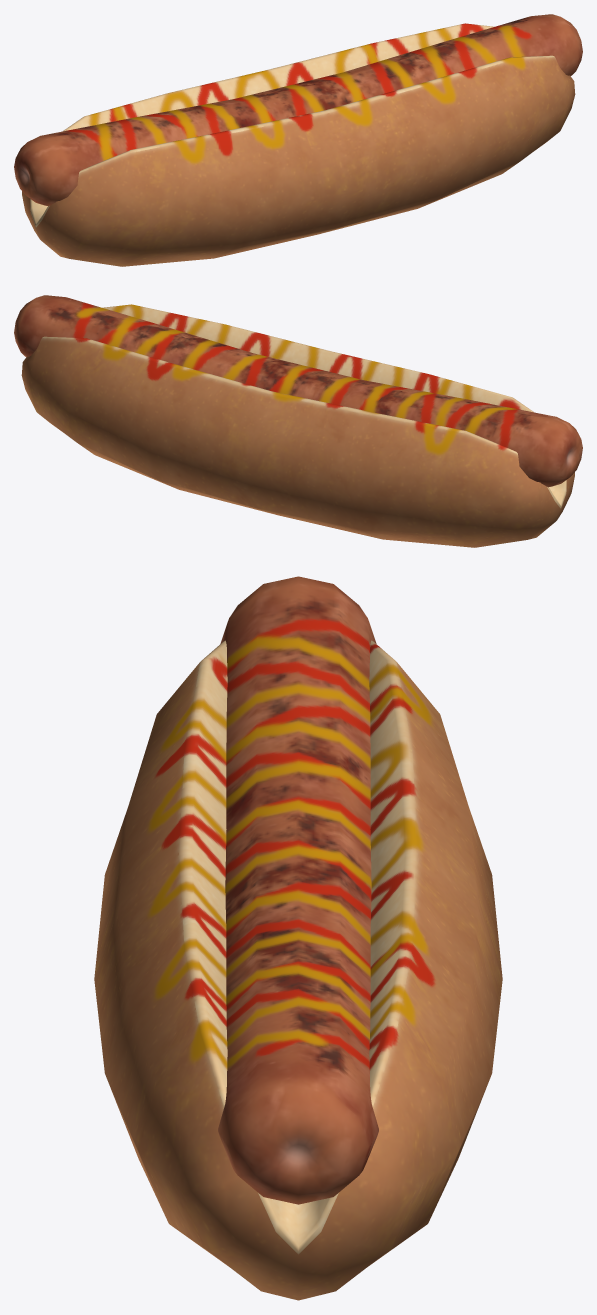
File: Hotdog.fbx
3 views of the same model, one above another, from view 1: azimuth 30°, elevation 25°; view 2: azimuth 150°, elevation 25°; view 3: azimuth 270°, elevation 25° (orthographic). The views are drawn at different scales.
Visible parts, largest first — view 1: Hotdog; view 2: Hotdog; view 3: Hotdog.
Part boxes in pixels (<box>): Hotdog: <box>14,14,582,266</box>; Hotdog: <box>14,295,582,547</box>; Hotdog: <box>94,576,502,1300</box>.
Size of the model in its own units: 0.2951 by 0.0737 by 0.0954.
